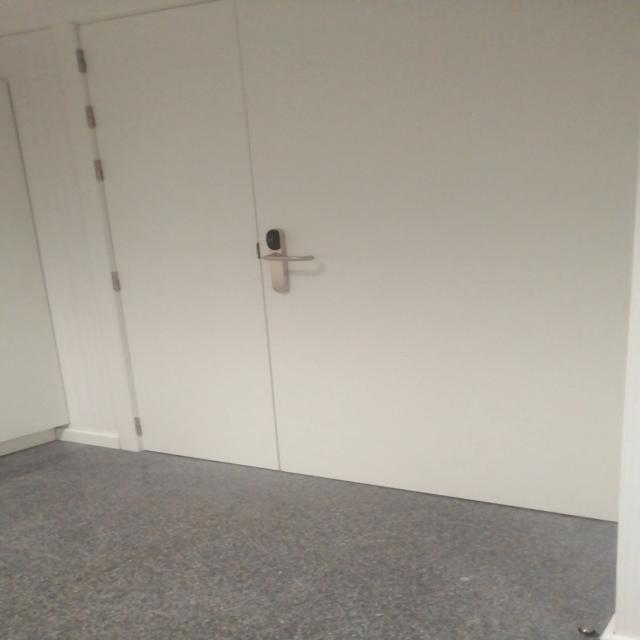door_handle: (256, 252, 318, 263)
